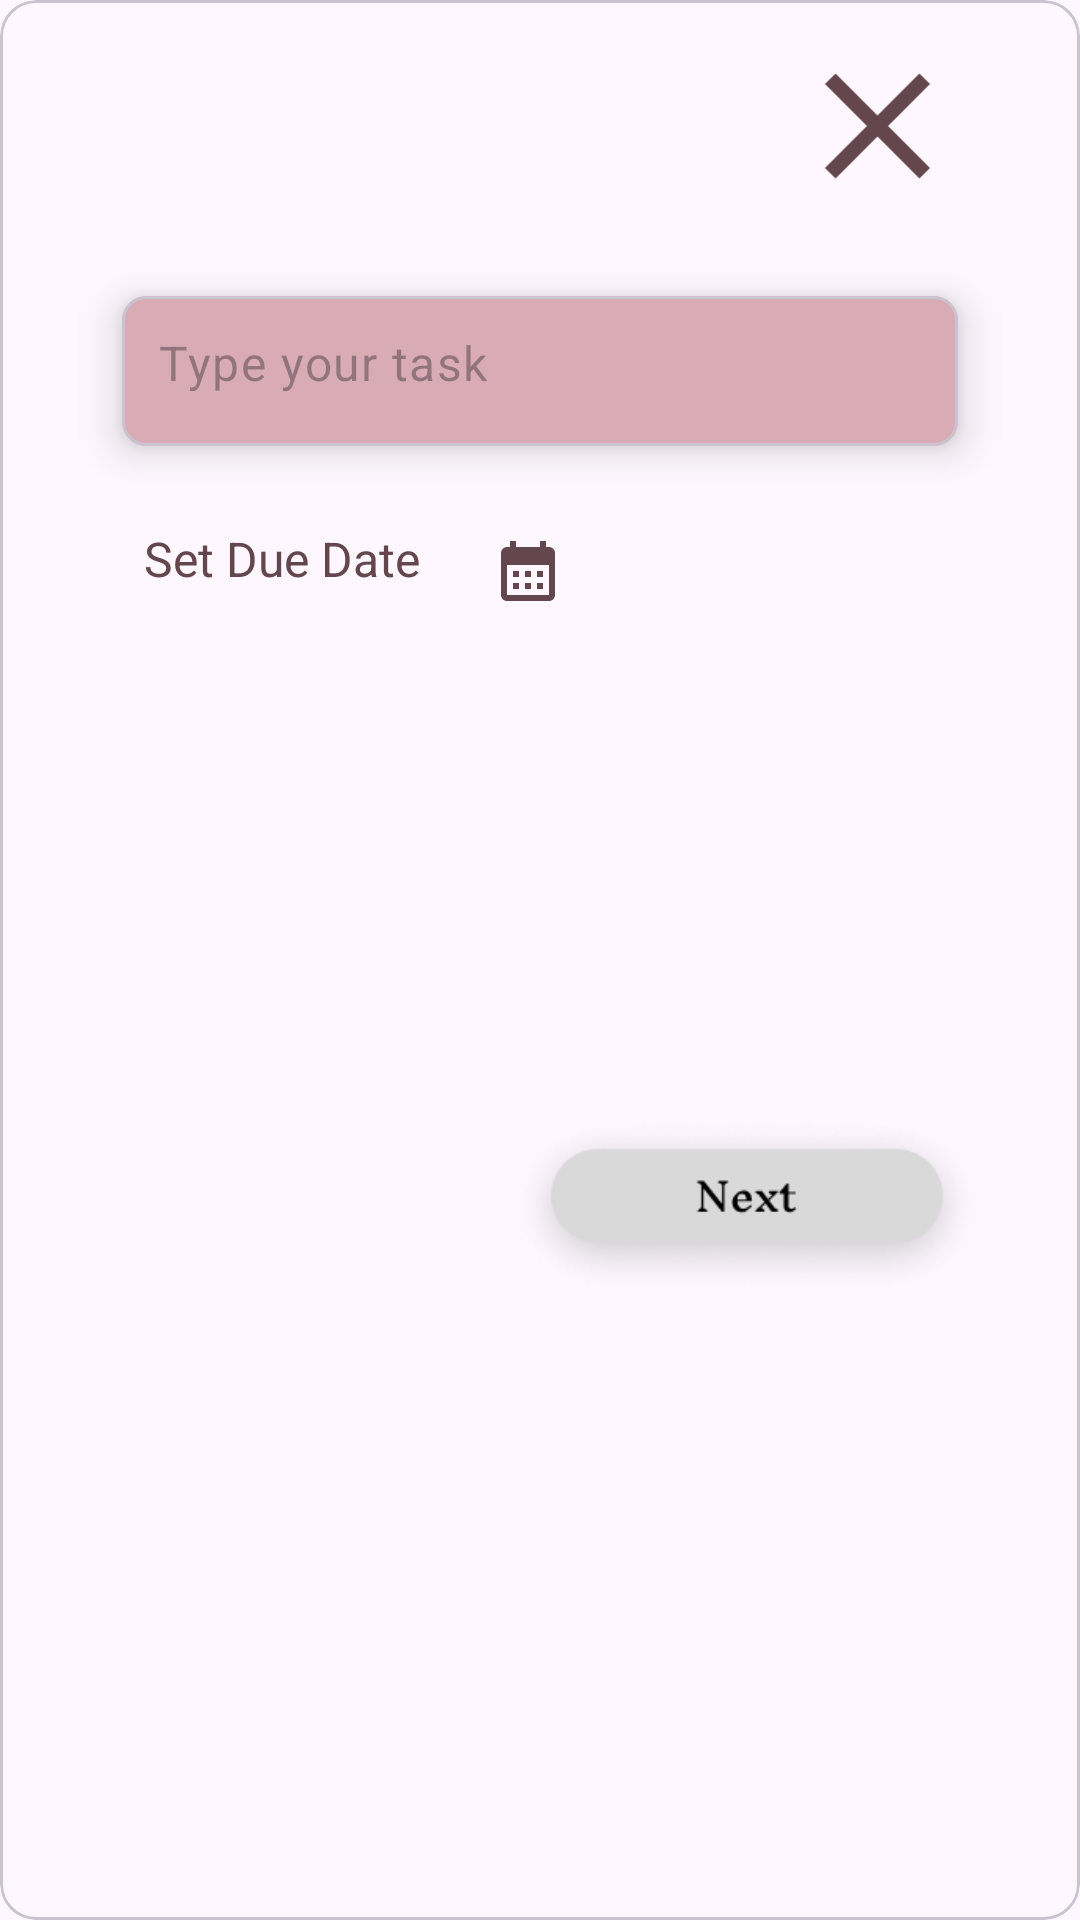

Icon click points for this 1080 x 1920 phone screenshot, format [x,y]:
close: [877,126]
